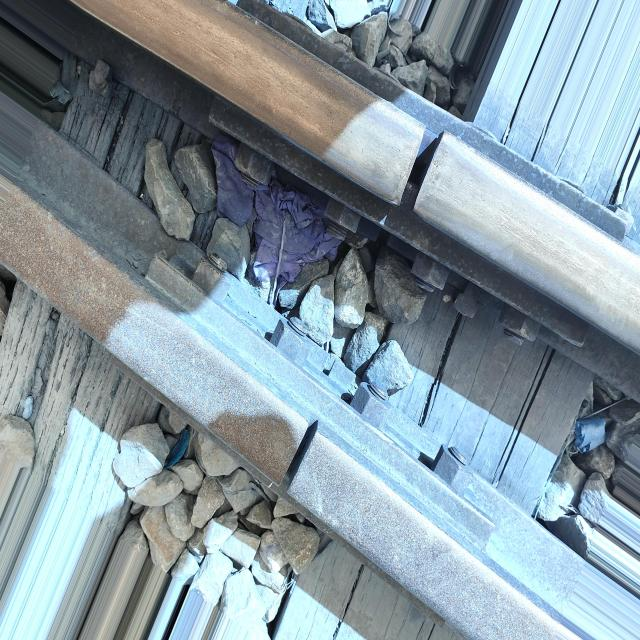crack: (376, 116, 470, 235), (269, 387, 332, 511)
